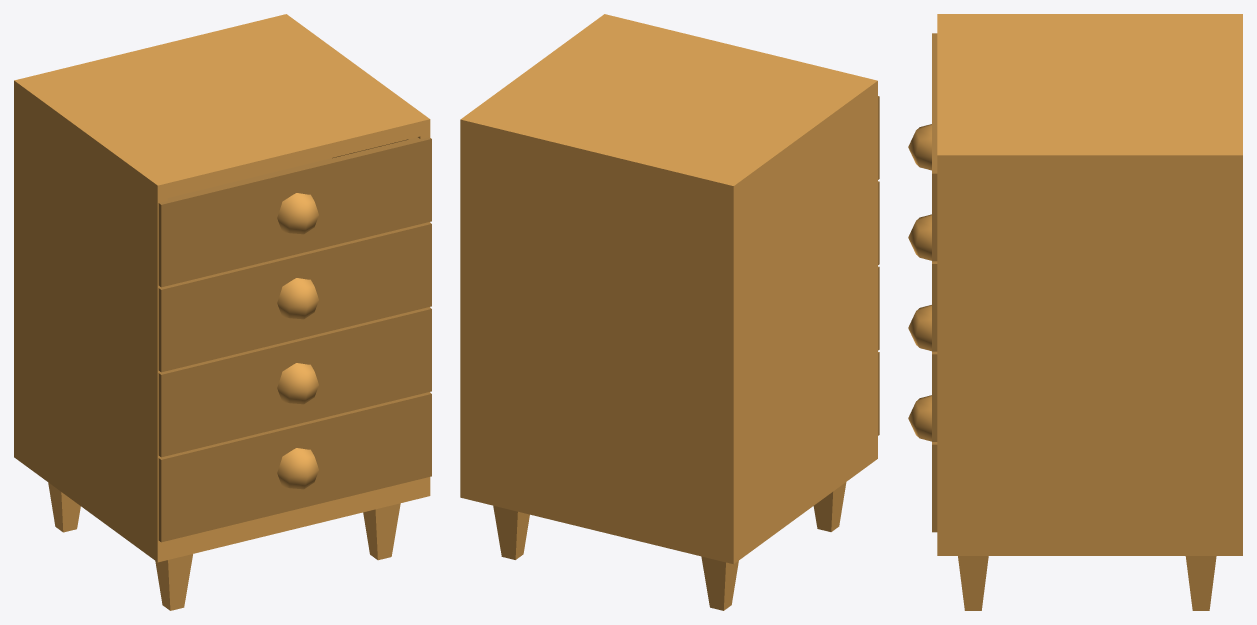
File: nightstand.glb
3 renders of one model, left to right at view 1: azimuth 30°, elevation 25°; view 2: azimuth 150°, elevation 25°; view 3: azimuth 270°, elevation 25°, orthographic. The views are drawn at different scales.
Visible parts, largest first — view 1: Nightstand, Nightstand.002; view 2: Nightstand; view 3: Nightstand, Nightstand.002.
Boxes of the visible parts, <box> form: Nightstand: <box>14,14,431,610</box>; Nightstand.002: <box>158,137,431,287</box>; Nightstand: <box>460,14,879,610</box>; Nightstand: <box>908,14,1242,610</box>; Nightstand.002: <box>908,33,937,261</box>.
Bounding box in the file's own units: 0.5451 × 0.8433 × 0.5456.
